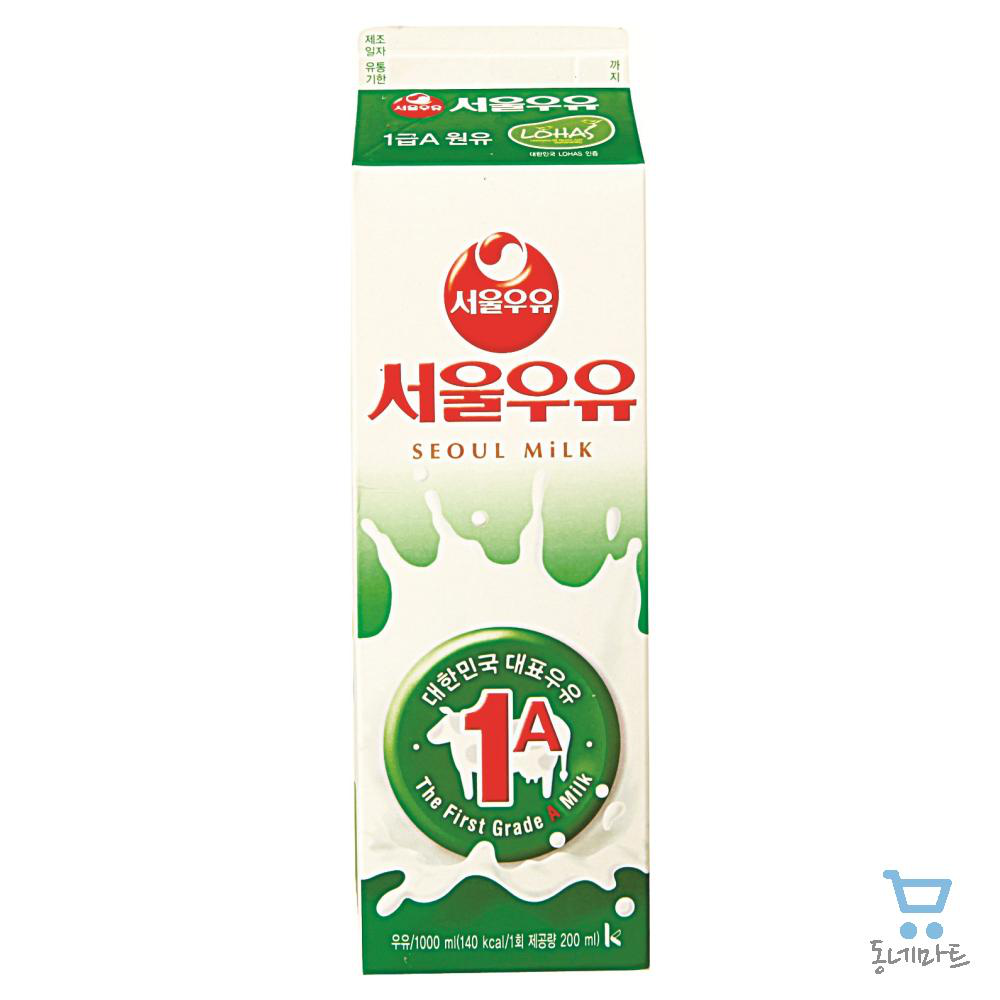milk: (351, 22, 651, 976)
